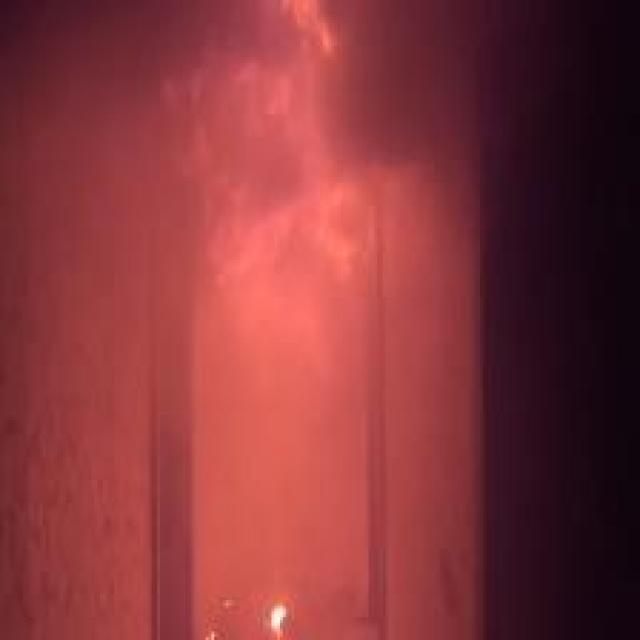fire: (154, 5, 382, 259), (240, 580, 312, 633)
